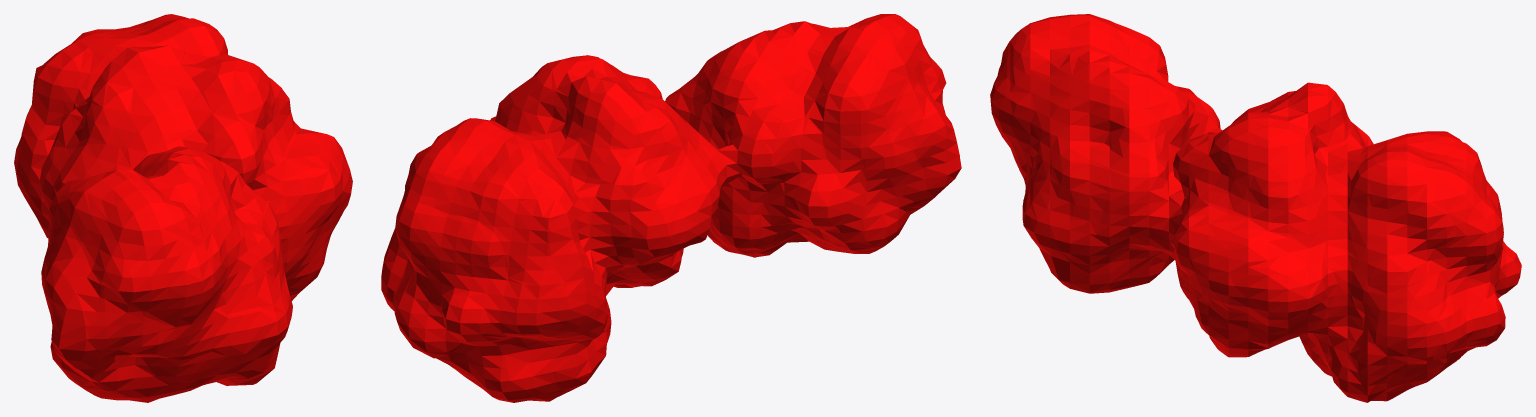
File: rpiB_coarse.dae
3 renders of one model, left to right at view 1: azimuth 30°, elevation 25°; view 2: azimuth 150°, elevation 25°; view 3: azimuth 270°, elevation 25°, orthographic. The views are drawn at different scales.
Visible parts, largest first — view 1: rpiB; view 2: rpiB; view 3: rpiB.
Boxes of the visible parts, x1,y1,x2,y2 form: rpiB: (14, 14, 352, 402); rpiB: (381, 14, 961, 402); rpiB: (990, 14, 1521, 402).
Size of the model in its own units: 86.95 by 62.88 by 108.
